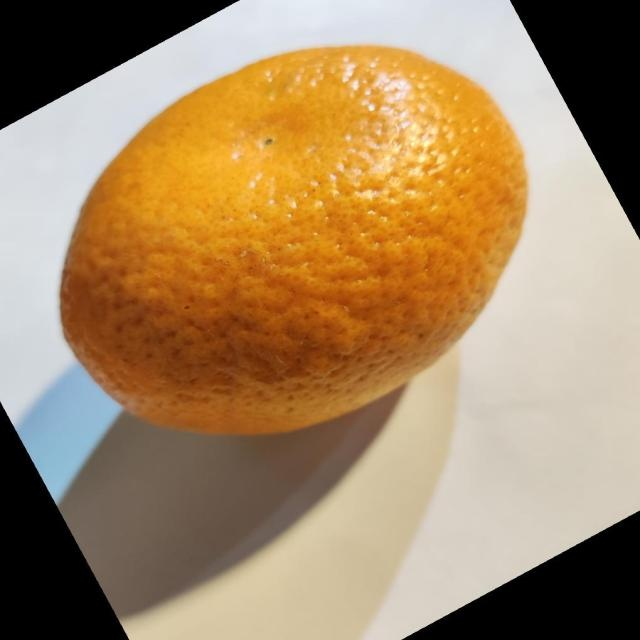agrume: (58, 43, 529, 437)
